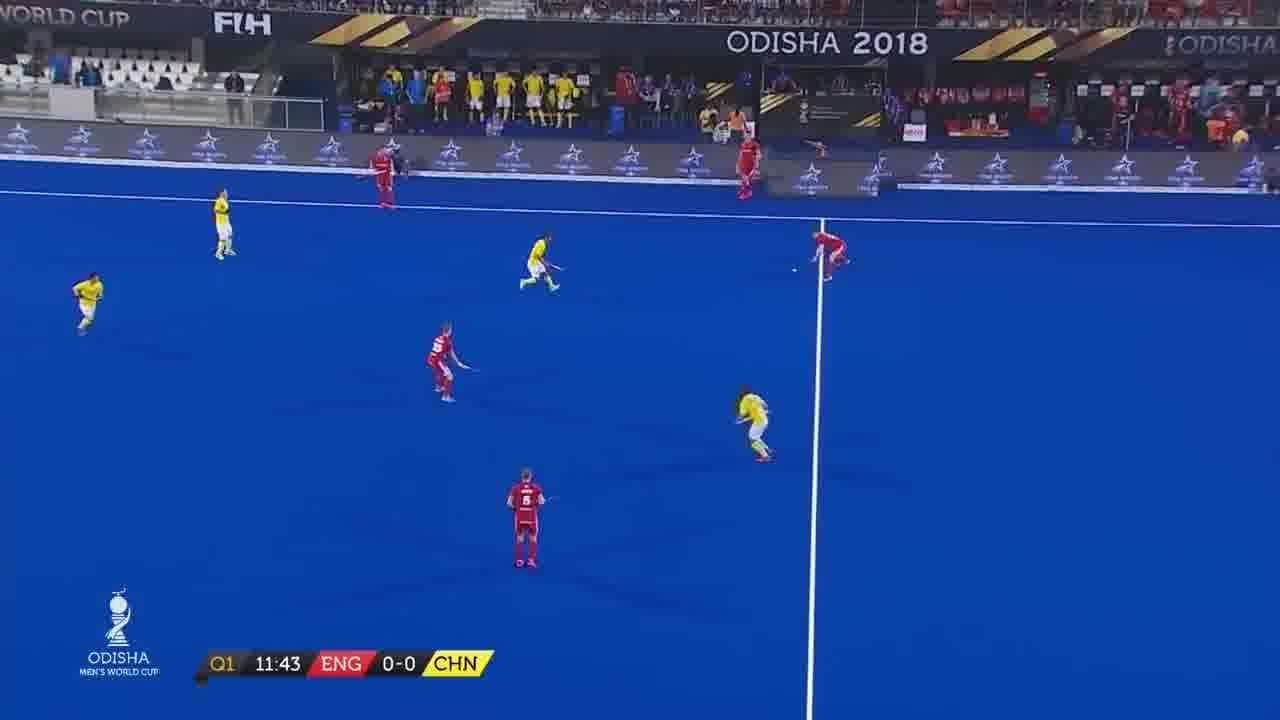ball: (790, 268, 800, 273)
